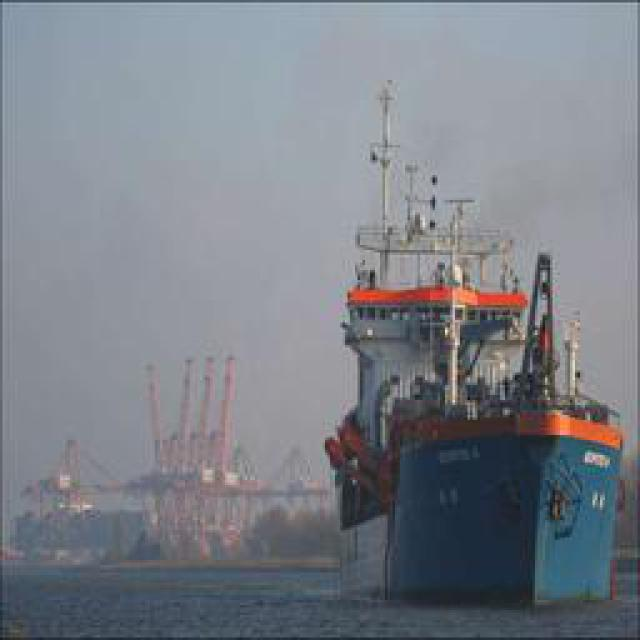Ship: (330, 55, 623, 603)
